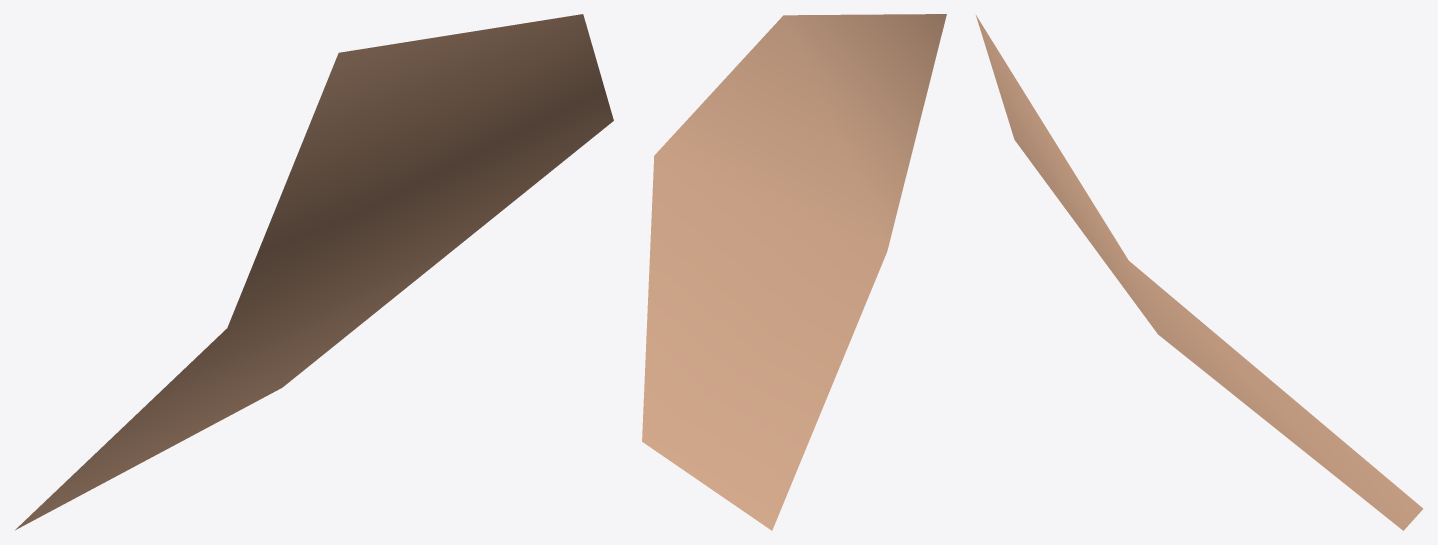
Rendered from tubercle-of-upper-lip-l.glb.
The picture shows the model from 3 angles, left to right: view 1: azimuth 30°, elevation 25°; view 2: azimuth 150°, elevation 25°; view 3: azimuth 270°, elevation 25°; orthographic projection. The views are drawn at different scales.
Visible parts, largest first — view 1: Tubercle of upper lip.l; view 2: Tubercle of upper lip.l; view 3: Tubercle of upper lip.l.
Boxes of the visible parts, x1,y1,x2,y2 form: Tubercle of upper lip.l: (15, 14, 613, 530); Tubercle of upper lip.l: (642, 14, 946, 530); Tubercle of upper lip.l: (976, 15, 1423, 530).
Size of the model in its own units: 0.00231 by 0.00386 by 0.00316.
